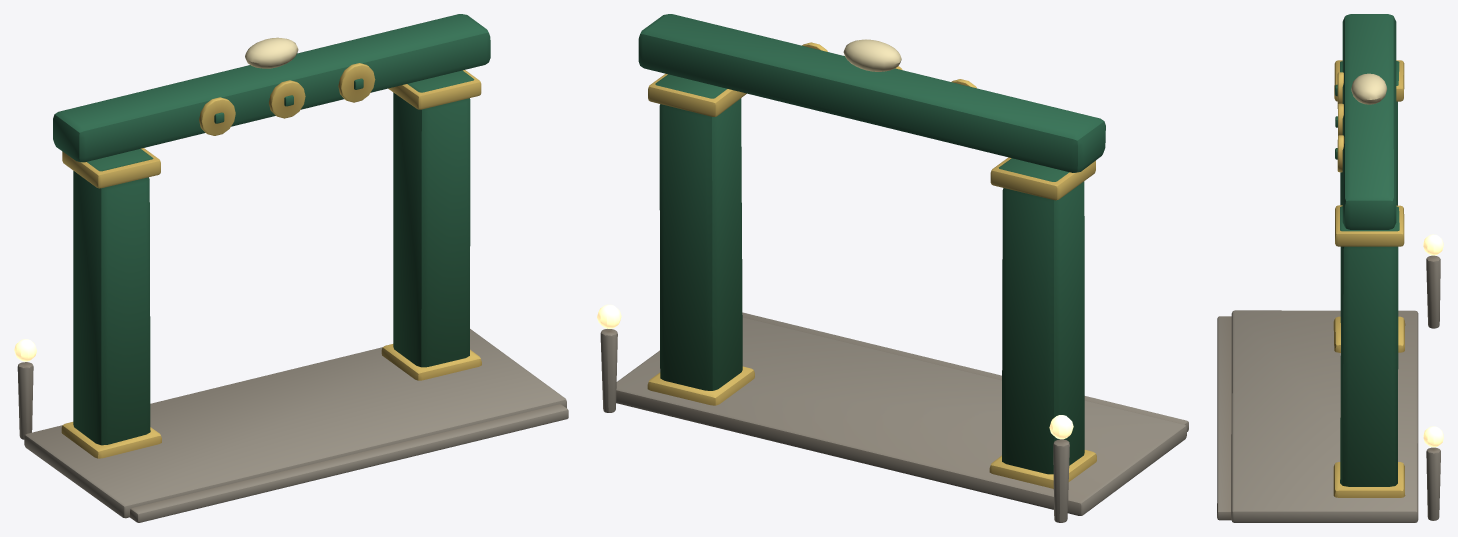
3 views of the same model, side by side, from view 1: azimuth 30°, elevation 25°; view 2: azimuth 150°, elevation 25°; view 3: azimuth 270°, elevation 25° (orthographic). The views are drawn at different scales.
Parts seen in each view (by area): view 1: gate_249f6ffe; view 2: gate_249f6ffe; view 3: gate_249f6ffe.
Boxes of the visible parts, box(x1,y1,x2,y2) form: gate_249f6ffe: box(14, 14, 568, 522); gate_249f6ffe: box(597, 14, 1188, 522); gate_249f6ffe: box(1217, 14, 1443, 522).
Size of the model in its own units: 5.36 by 4.29 by 2.54.
